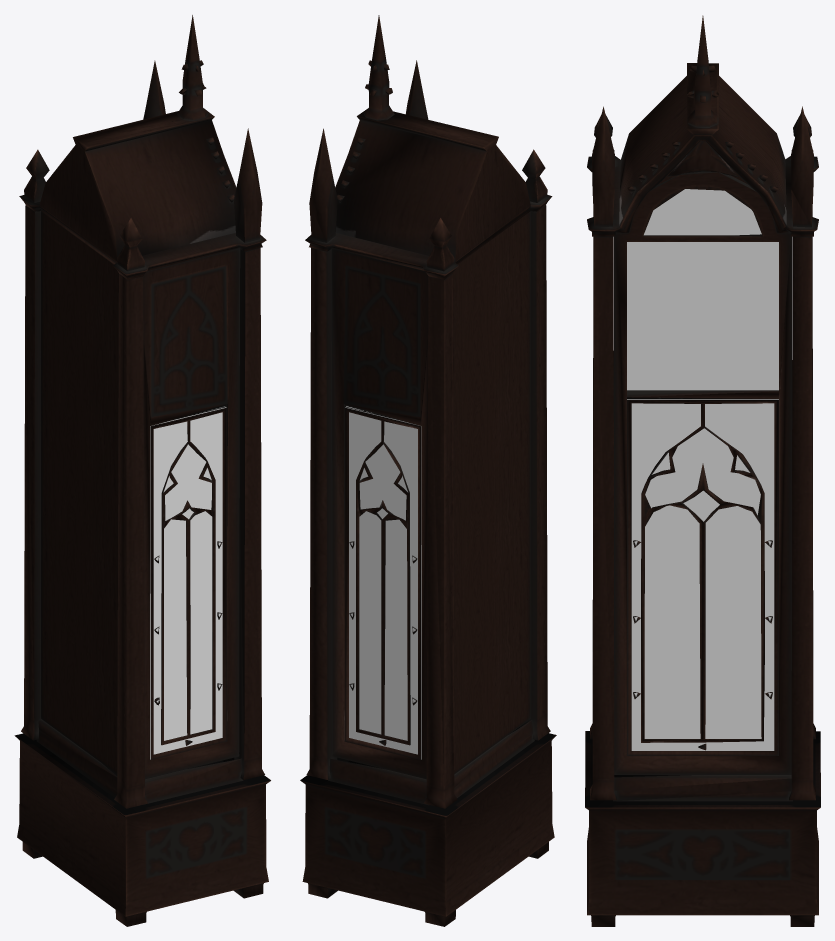
File: low_granfather_clock.fbx
3 renders of one model, left to right at view 1: azimuth 30°, elevation 25°; view 2: azimuth 150°, elevation 25°; view 3: azimuth 270°, elevation 25°, orthographic. The views are drawn at different scales.
Visible parts, largest first — view 1: ClockCase, Glass; view 2: ClockCase, Glass; view 3: ClockCase, Glass.
Boxes of the visible parts, x1,y1,x2,y2 form: ClockCase: [14, 15, 270, 926]; Glass: [150, 406, 226, 759]; ClockCase: [300, 15, 556, 926]; Glass: [345, 406, 421, 759]; ClockCase: [585, 15, 820, 926]; Glass: [627, 189, 778, 750].
Bounding box in the file's own units: 47.77 × 263 × 62.22.
4 materials, 3 textured.
